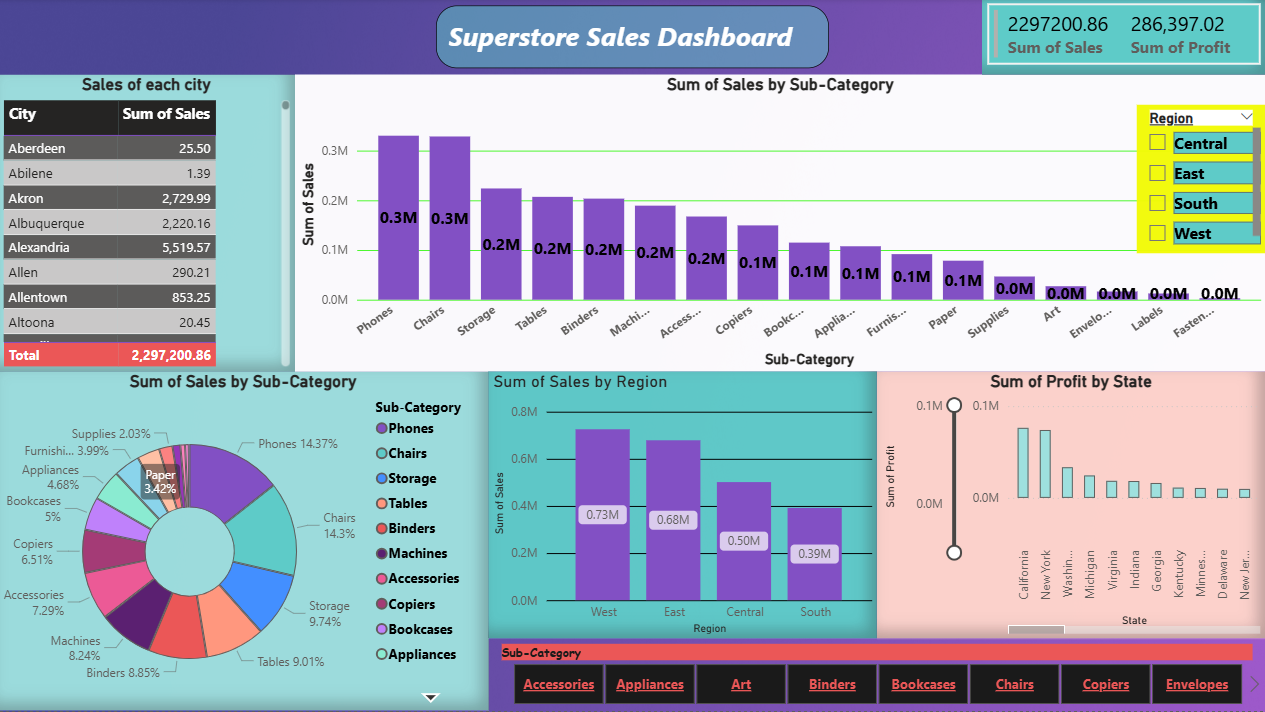

The dashboard page shown, as its layout file describes it:
{"tool":"powerbi","page":{"name":"Page 1","canvas":[1280,720],"ordinal":0},"visuals":[{"type":"textbox","box":[441.9,6.9,396.6,63.1],"z":0},{"type":"tableEx","title":"Sales of each city","fields":{"Values":["Sample - Superstore.City","Sum(Sample - Superstore.Sales)"]},"box":[0,77.2,299.8,299.8],"z":1000},{"type":"donutChart","fields":{"Category":["Sample - Superstore.Sub-Category"],"Y":["Sum(Sample - Superstore.Sales)"]},"box":[0,377,495.1,342.2],"z":2000},{"type":"slicer","fields":{"Values":["Sample - Superstore.Sub-Category"]},"box":[495.1,646.6,784.4,72.7],"z":3000},{"type":"columnChart","fields":{"Category":["Sample - Superstore.Sub-Category"],"Y":["Sum(Sample - Superstore.Sales)"]},"box":[300,77.5,980,300],"z":4000},{"type":"ribbonChart","fields":{"Category":["Sample - Superstore.State"],"Y":["Sum(Sample - Superstore.Profit)"]},"box":[887.3,377,392.2,269.5],"z":5000},{"type":"multiRowCard","fields":{"Values":["Sum(Sample - Superstore.Sales)","Sum(Sample - Superstore.Profit)"]},"box":[993.3,0,286.2,77.2],"z":6000},{"type":"slicer","fields":{"Values":["Sample - Superstore.Region"]},"box":[1149.3,107.5,130.2,149.9],"z":7000},{"type":"lineStackedColumnComboChart","fields":{"Category":["Sample - Superstore.Region"],"Y":["Sum(Sample - Superstore.Sales)"]},"box":[495.1,377,392.2,269.5],"z":8000}]}

Visuals, with their boxes in screenshot pixels (x1, y1, x2, y2), scaled from the page's 1280x720 canvas onto the 1265x712 screenshot:
textbox: <bbox>437, 7, 829, 69</bbox>
"Sales of each city" tableEx: <bbox>0, 76, 296, 373</bbox>
donutChart - Sample - Superstore.Sub-Category x Sum(Sample - Superstore.Sales): <bbox>0, 373, 489, 711</bbox>
slicer - Sample - Superstore.Sub-Category: <bbox>489, 639, 1264, 711</bbox>
columnChart - Sample - Superstore.Sub-Category x Sum(Sample - Superstore.Sales): <bbox>296, 77, 1264, 373</bbox>
ribbonChart - Sample - Superstore.State x Sum(Sample - Superstore.Profit): <bbox>877, 373, 1264, 639</bbox>
multiRowCard - Sum(Sample - Superstore.Sales) x Sum(Sample - Superstore.Profit): <bbox>982, 0, 1264, 76</bbox>
slicer - Sample - Superstore.Region: <bbox>1136, 106, 1264, 255</bbox>
lineStackedColumnComboChart - Sample - Superstore.Region x Sum(Sample - Superstore.Sales): <bbox>489, 373, 877, 639</bbox>
